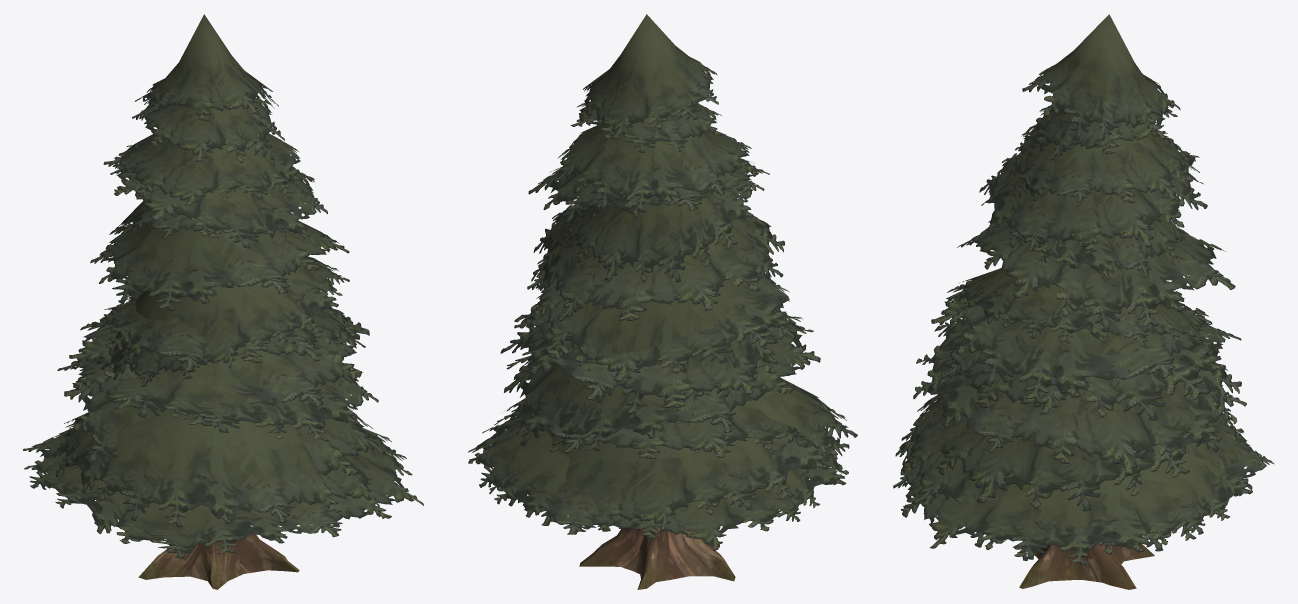
The picture shows the model from 3 angles, left to right: view 1: azimuth 30°, elevation 25°; view 2: azimuth 150°, elevation 25°; view 3: azimuth 270°, elevation 25°; orthographic projection. The views are drawn at different scales.
Parts seen in each view (by area): view 1: body0_model0_lod0_mesh0; view 2: body0_model0_lod0_mesh0; view 3: body0_model0_lod0_mesh0.
Boxes of the visible parts, x1,y1,x2,y2 form: body0_model0_lod0_mesh0: (23,14,423,589); body0_model0_lod0_mesh0: (468,14,857,589); body0_model0_lod0_mesh0: (893,14,1274,589).
Size of the model in its own units: 266 by 405 by 264.
Materials: 1 (1 with a texture image).
